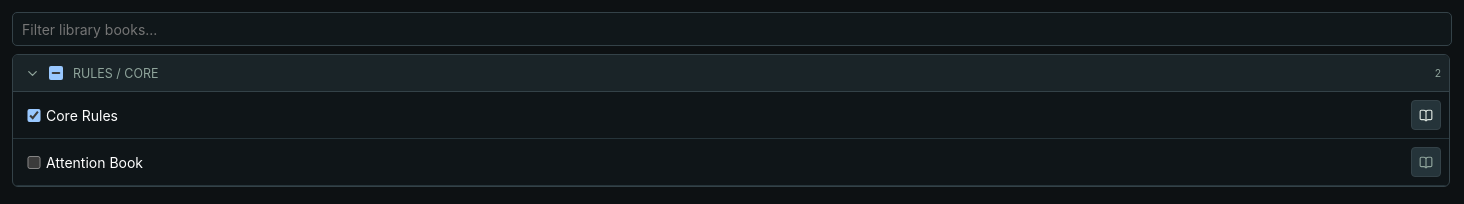
filters books and renders attention and disabled reader states
Expected: the button named "Open Attention Book" is disabled, [1411,147,1441,177]
Type "attention" into the search field labelled "Filter library books". click: coordinates (732, 29)
box: [12,12,1452,46]
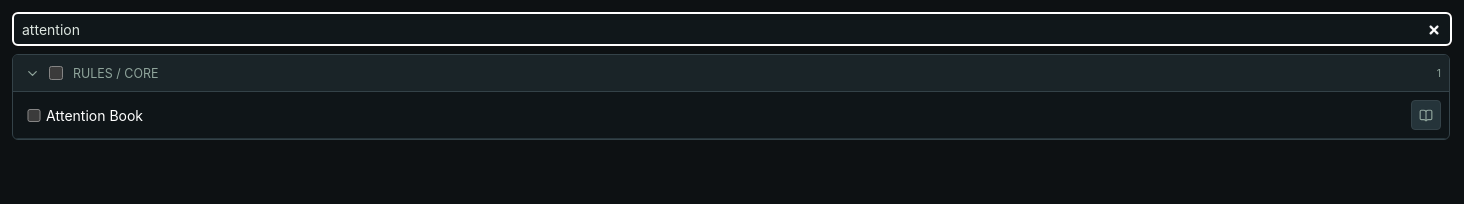
Expected: the text "Attention Book" is shown, [46,106,143,124]
Expected: the text "Core Rules" is gone
